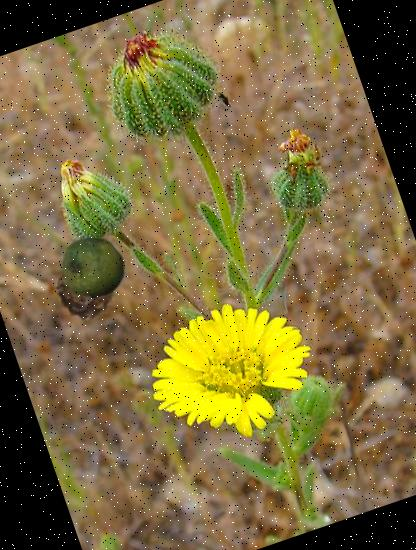Limes: (52, 226, 136, 309)
Pineapple: (46, 245, 130, 330)
